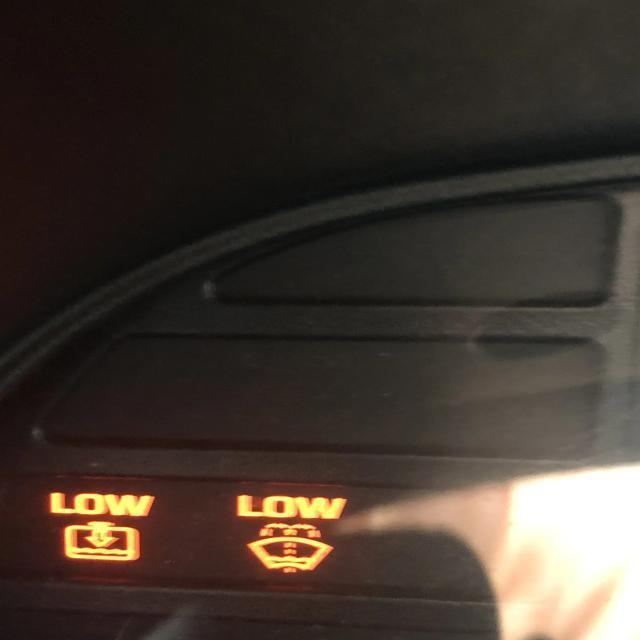Washer Fluid: (247, 522, 335, 576)
